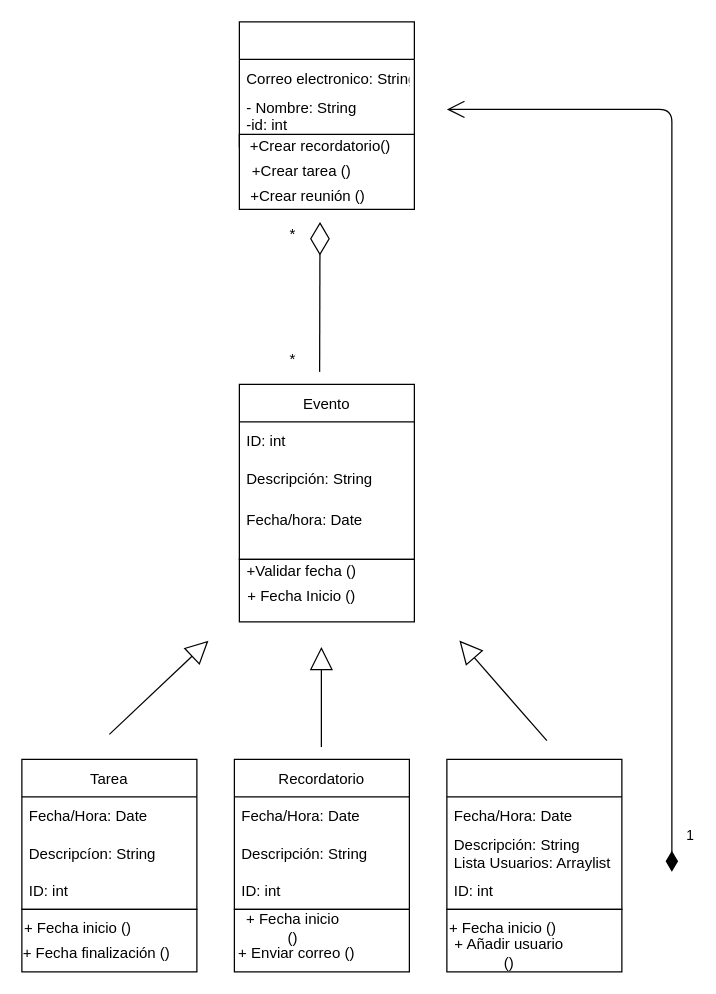
Image size: 716x994. Some labels were removed from this diagram. Here are the shapes that lost their labels. From the top down, the box of each, then its label:
(238, 21, 414, 147): USUARIO
(446, 758, 622, 909): Reunión
